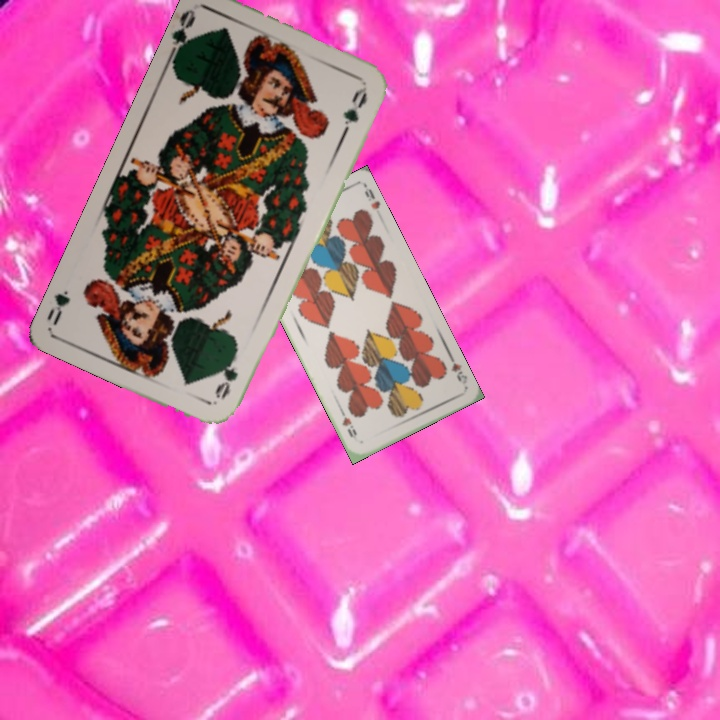GO: (164, 5, 201, 63), (211, 347, 241, 402)
H9: (445, 351, 470, 387)
